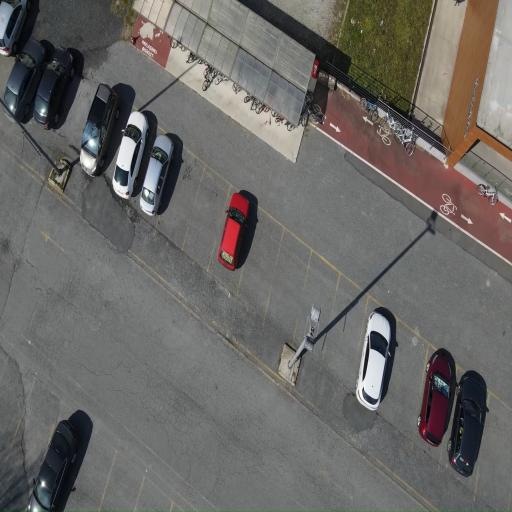harvester: (395, 125, 416, 155), (379, 112, 401, 134), (360, 98, 378, 122), (478, 184, 498, 205), (440, 194, 457, 216), (307, 104, 324, 124), (204, 65, 218, 81), (187, 52, 204, 64), (272, 110, 284, 123), (256, 102, 269, 114), (215, 73, 229, 84), (187, 52, 198, 63), (305, 91, 313, 105), (244, 94, 255, 103), (286, 121, 295, 131), (233, 83, 242, 93), (171, 40, 179, 48), (179, 44, 187, 52)
person: (28, 421, 77, 511), (447, 371, 487, 476), (418, 349, 456, 446), (80, 84, 119, 175), (3, 40, 46, 122), (356, 311, 390, 410), (34, 48, 74, 129), (113, 111, 148, 197), (140, 135, 174, 216), (218, 193, 249, 270), (0, 0, 31, 56)
